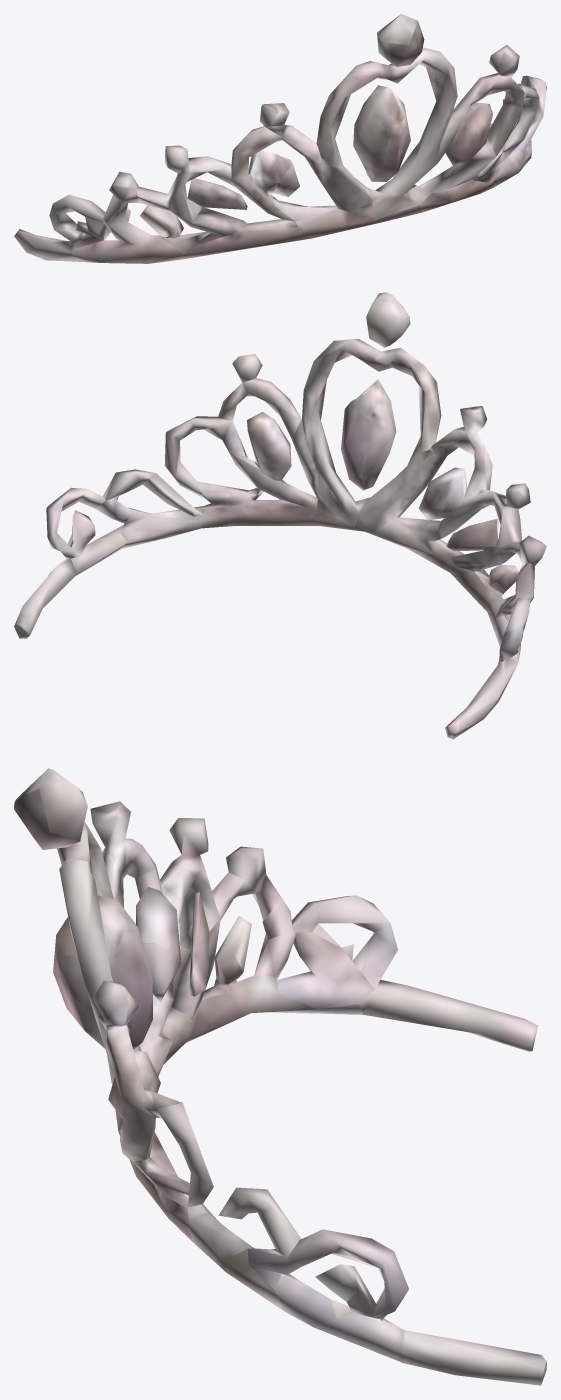
3 views of the same model, one above another, from view 1: azimuth 30°, elevation 25°; view 2: azimuth 150°, elevation 25°; view 3: azimuth 270°, elevation 25° (orthographic). The views are drawn at different scales.
Parts seen in each view (by area): view 1: Silver-Tiara-08; view 2: Silver-Tiara-08; view 3: Silver-Tiara-08.
Boxes of the visible parts, box(x1,y1,x2,y2) form: Silver-Tiara-08: box(14, 14, 546, 263); Silver-Tiara-08: box(14, 292, 546, 739); Silver-Tiara-08: box(14, 768, 546, 1385).
Bounding box in the file's own units: 0.3083 × 0.1767 × 0.1891.
Materials: 1 (1 with a texture image).
